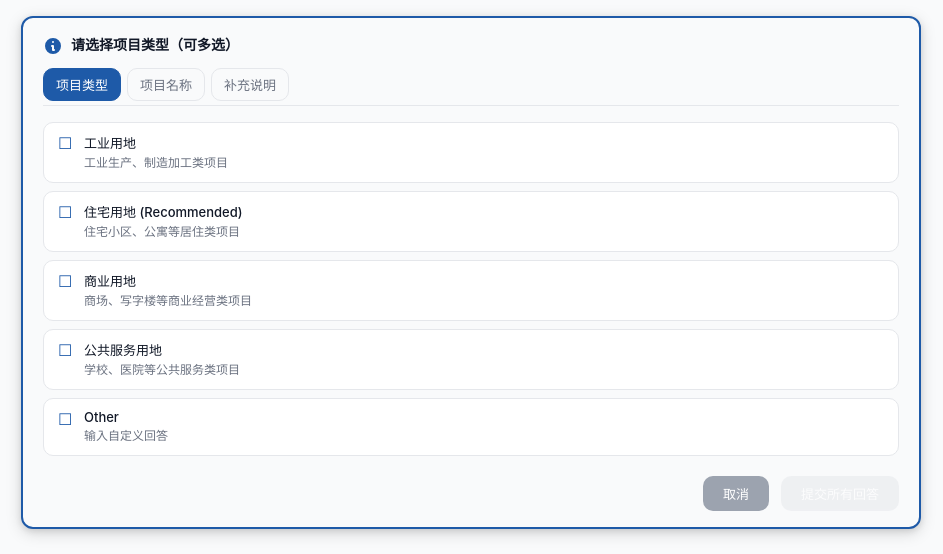
Test: HumanApprovalBox › real-world mixed scenario (3 questions: multi-select + 2 freeform) › freeform tab shows textarea instead of options
Step 1. Click the button with class "tab-btn" showing "项目名称" → (166, 84), box [127, 68, 205, 101]
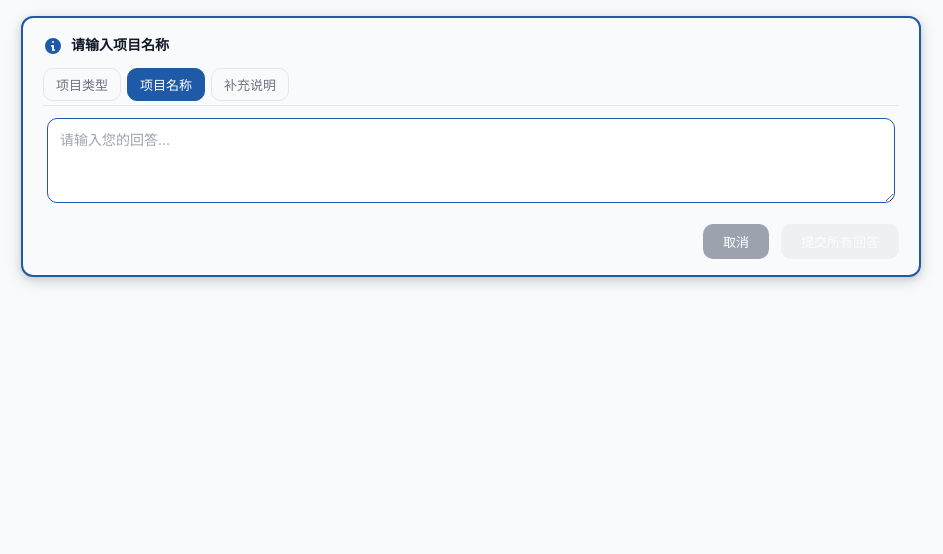
Expected: the element with class "freeform-editor" is shown, [43, 118, 899, 208]
Expected: the text "请输入项目名称" is shown, [71, 34, 169, 55]
